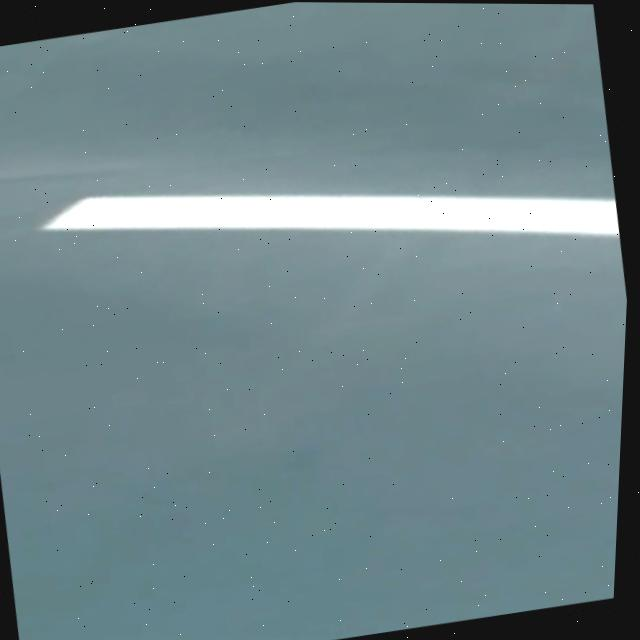center: (43, 196, 620, 237)
